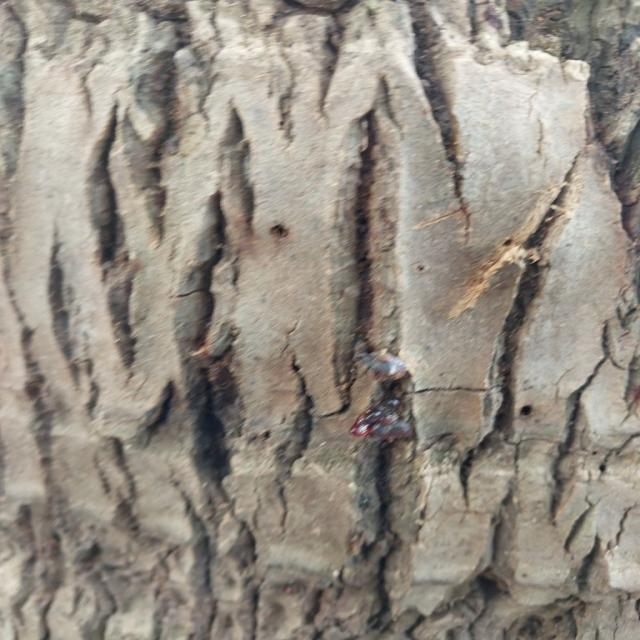stembleeding: (337, 350, 442, 470), (185, 196, 308, 292)
